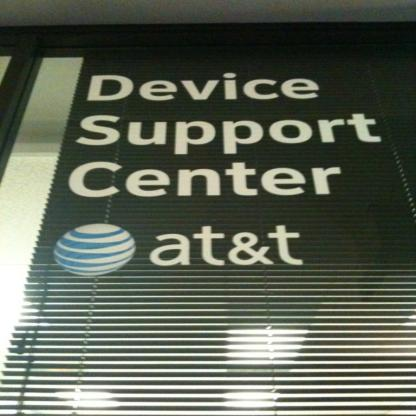Ball: (53, 224, 137, 276)
